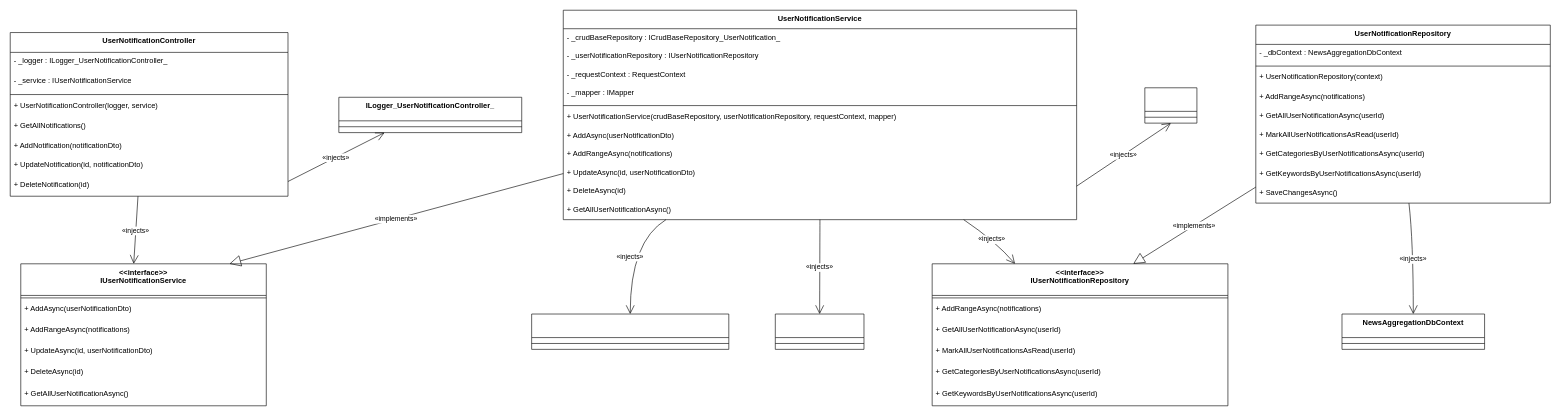
Image size: 1561x416. Some labels were removed from this diagram. Each missing label, with the centre of its shape:
"ICrudBaseRepository_UserNotification_" belongs at (630,331).
"IMapper" belongs at (1170,105).
"RequestContext" belongs at (819,331).
